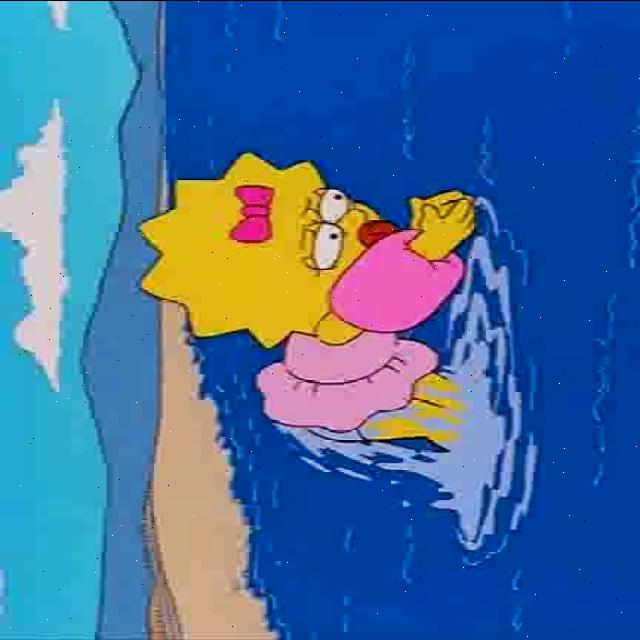Maggie Simpson: (136, 154, 400, 348)
